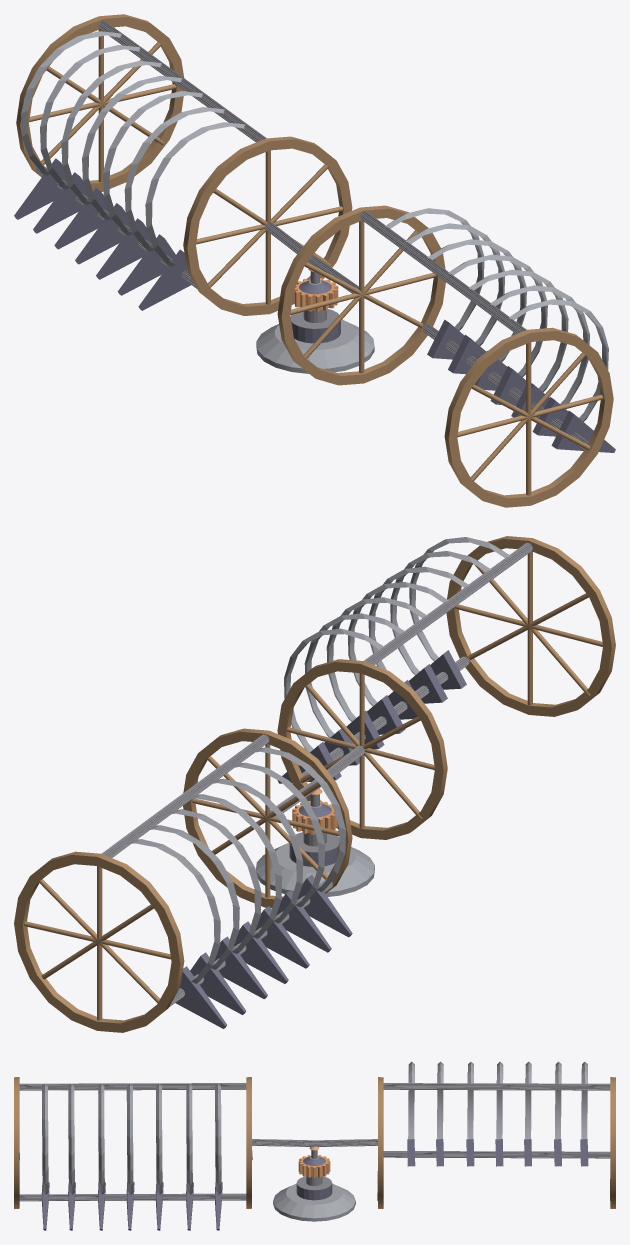
File: moissoneuse_batteuse_de_steak.fbx
3 views of the same model, one above another, from view 1: azimuth 30°, elevation 25°; view 2: azimuth 150°, elevation 25°; view 3: azimuth 270°, elevation 25° (orthographic). The views are drawn at different scales.
Visible parts, largest first — view 1: pCylinder36; view 2: pCylinder36; view 3: pCylinder36.
Boxes of the visible parts, x1,y1,x2,y2 form: pCylinder36: (14,14,615,507); pCylinder36: (14,536,615,1032); pCylinder36: (14,1061,615,1230).
Bounding box in the file's own units: 7.15 × 5.85 × 25.26.
